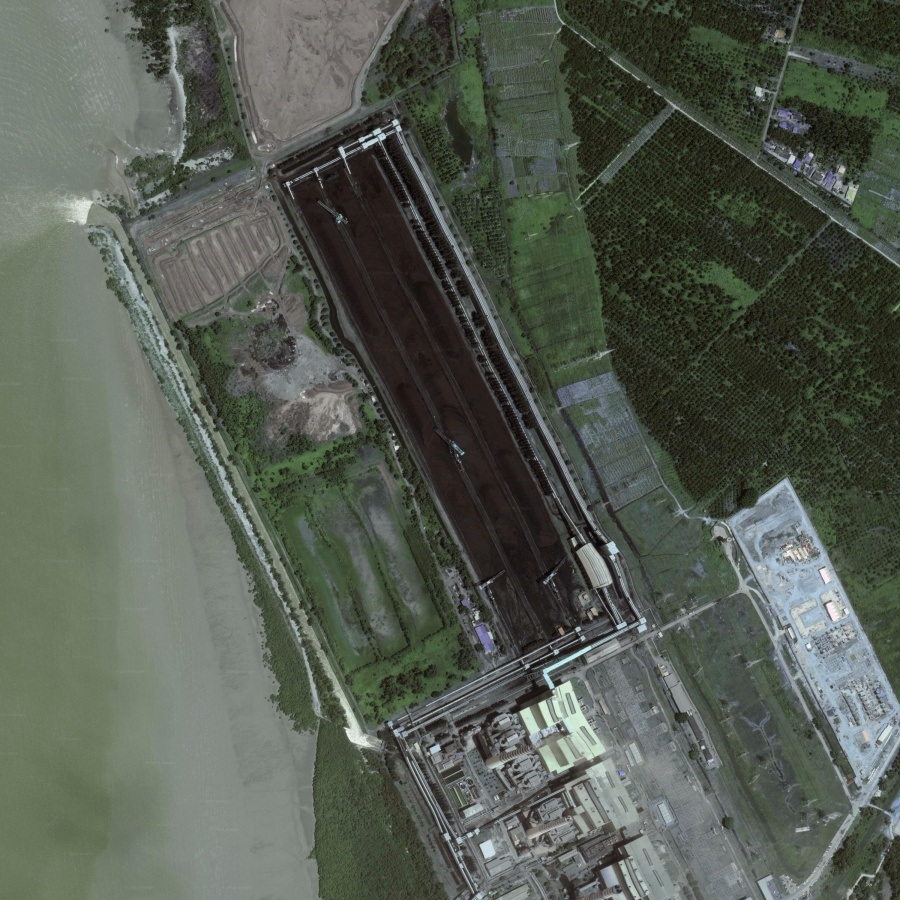PowerPlant: (292, 121, 615, 658)
